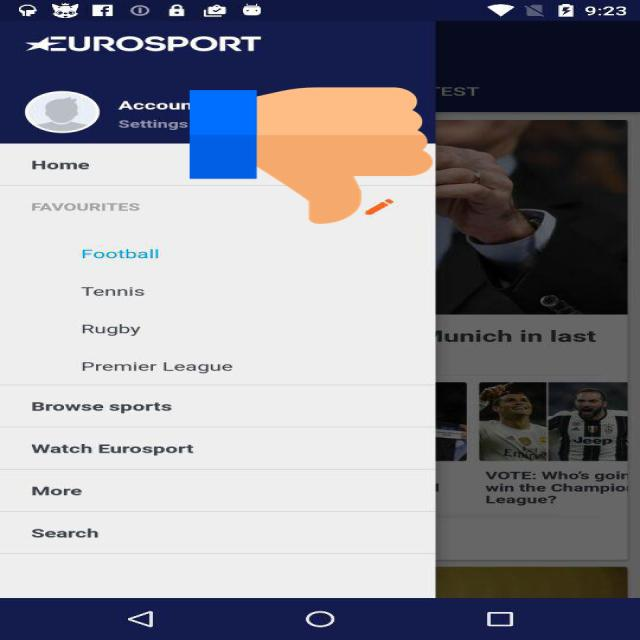obstruction: (190, 84, 432, 227)
